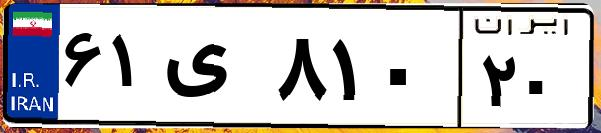0: (385, 28, 445, 110), (525, 38, 570, 115)
1: (330, 28, 385, 110), (110, 28, 158, 98)
2: (475, 38, 525, 113)
6: (57, 26, 110, 100)
8: (270, 28, 330, 110)
ی: (158, 20, 270, 120)
